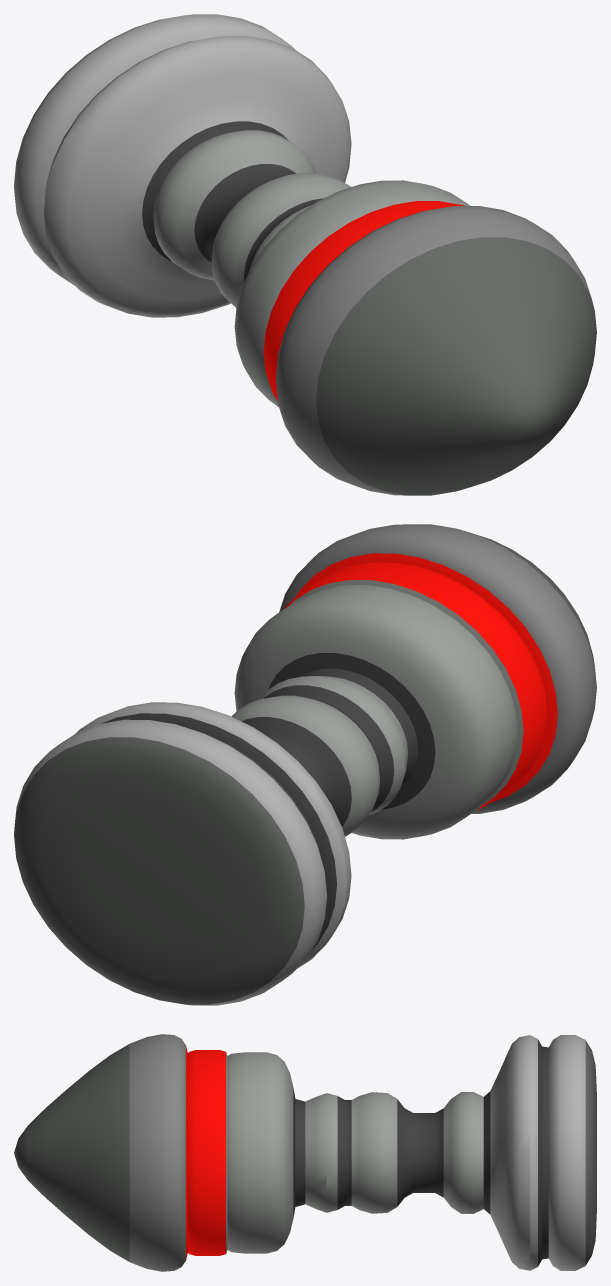
The model's file is bolt.glb.
3 renders of one model, top to bottom at view 1: azimuth 30°, elevation 25°; view 2: azimuth 150°, elevation 25°; view 3: azimuth 270°, elevation 25°, orthographic. The views are drawn at different scales.
Visible parts, largest first — view 1: bolt; view 2: bolt; view 3: bolt.
Part boxes in pixels (x1,y1,x2,y2): bolt: [14, 14, 596, 495]; bolt: [14, 524, 596, 1005]; bolt: [14, 1034, 596, 1271].
Bounding box in the file's own units: 12.5 × 10.62 × 26.93.
